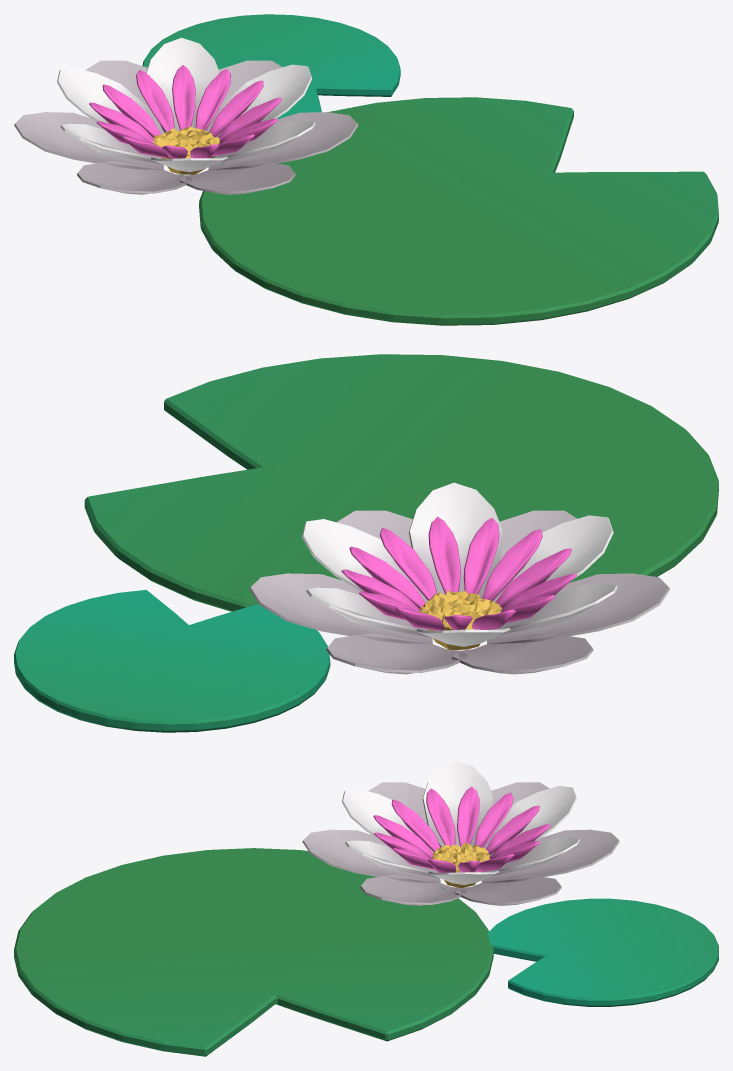
Rendered from lilipad.glb.
3 renders of one model, top to bottom at view 1: azimuth 30°, elevation 25°; view 2: azimuth 150°, elevation 25°; view 3: azimuth 270°, elevation 25°, orthographic. The views are drawn at different scales.
Parts seen in each view (by area): view 1: lillipad, Plane, lillipad.001, Plane.001, Plane.002, Cube; view 2: lillipad, lillipad.001, Plane, Plane.001, Plane.002, Cube; view 3: lillipad, lillipad.001, Plane, Plane.001, Plane.002, Cube.
Part boxes in pixels (x1=…): lillipad: x1=199, y1=97, x2=718, y2=325; Plane: x1=14, y1=60, x2=358, y2=194; lillipad.001: x1=142, y1=14, x2=400, y2=118; Plane.001: x1=57, y1=37, x2=315, y2=172; Plane.002: x1=89, y1=65, x2=281, y2=158; Cube: x1=152, y1=126, x2=219, y2=174; lillipad: x1=84, y1=354, x2=718, y2=611; lillipad.001: x1=14, y1=589, x2=330, y2=732; Plane: x1=249, y1=510, x2=670, y2=674; Plane.001: x1=302, y1=482, x2=617, y2=646; Plane.002: x1=341, y1=516, x2=576, y2=630; Cube: x1=418, y1=590, x2=502, y2=649; lillipad: x1=14, y1=848, x2=493, y2=1056; lillipad.001: x1=488, y1=898, x2=718, y2=1006; Plane: x1=302, y1=782, x2=619, y2=905; Plane.001: x1=342, y1=761, x2=579, y2=884; Plane.002: x1=373, y1=786, x2=550, y2=872; Cube: x1=432, y1=842, x2=489, y2=887.
Size of the model in its own units: 11.41 by 1.61 by 14.69.
Materials: 1 (1 with a texture image).
